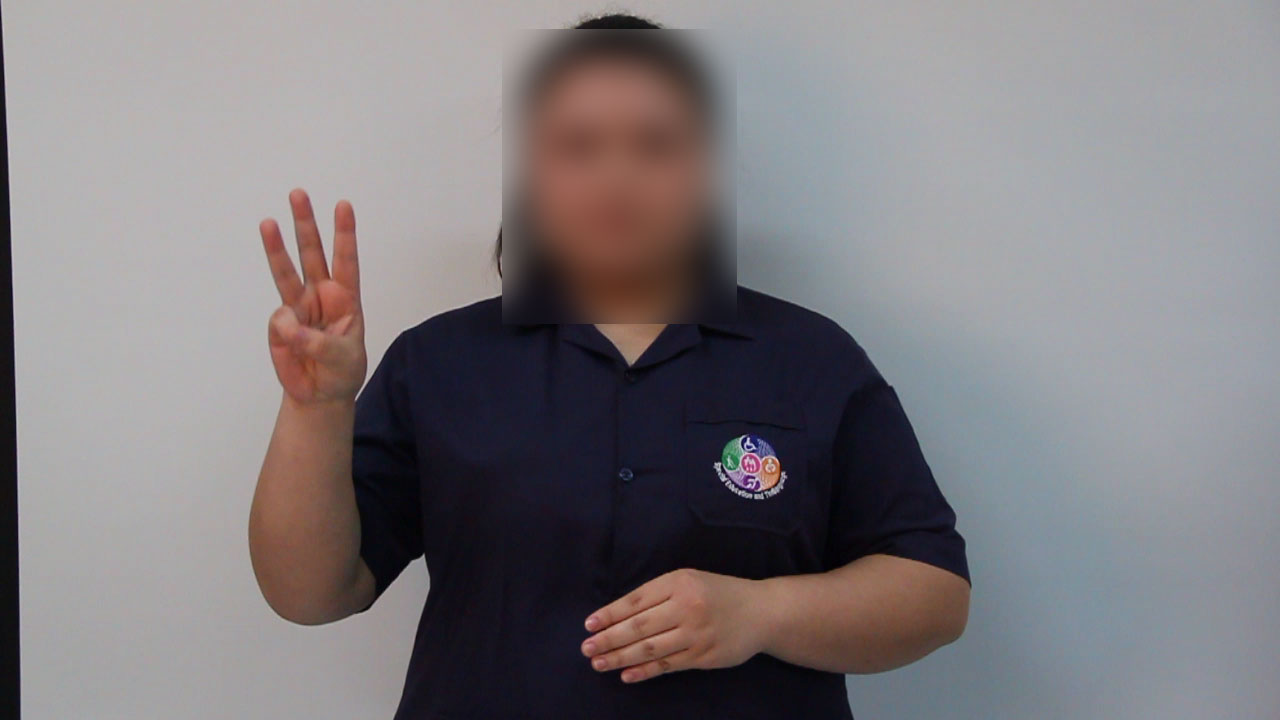wor: (251, 181, 372, 410)
